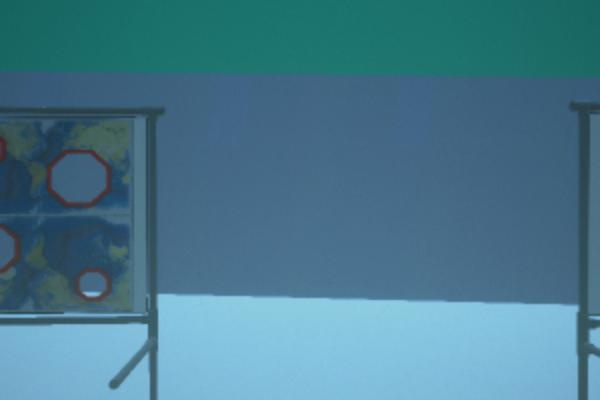torpille: (0, 106, 157, 324)
torpille_target: (44, 148, 112, 210), (74, 266, 112, 301), (0, 224, 20, 272), (0, 137, 8, 163)
